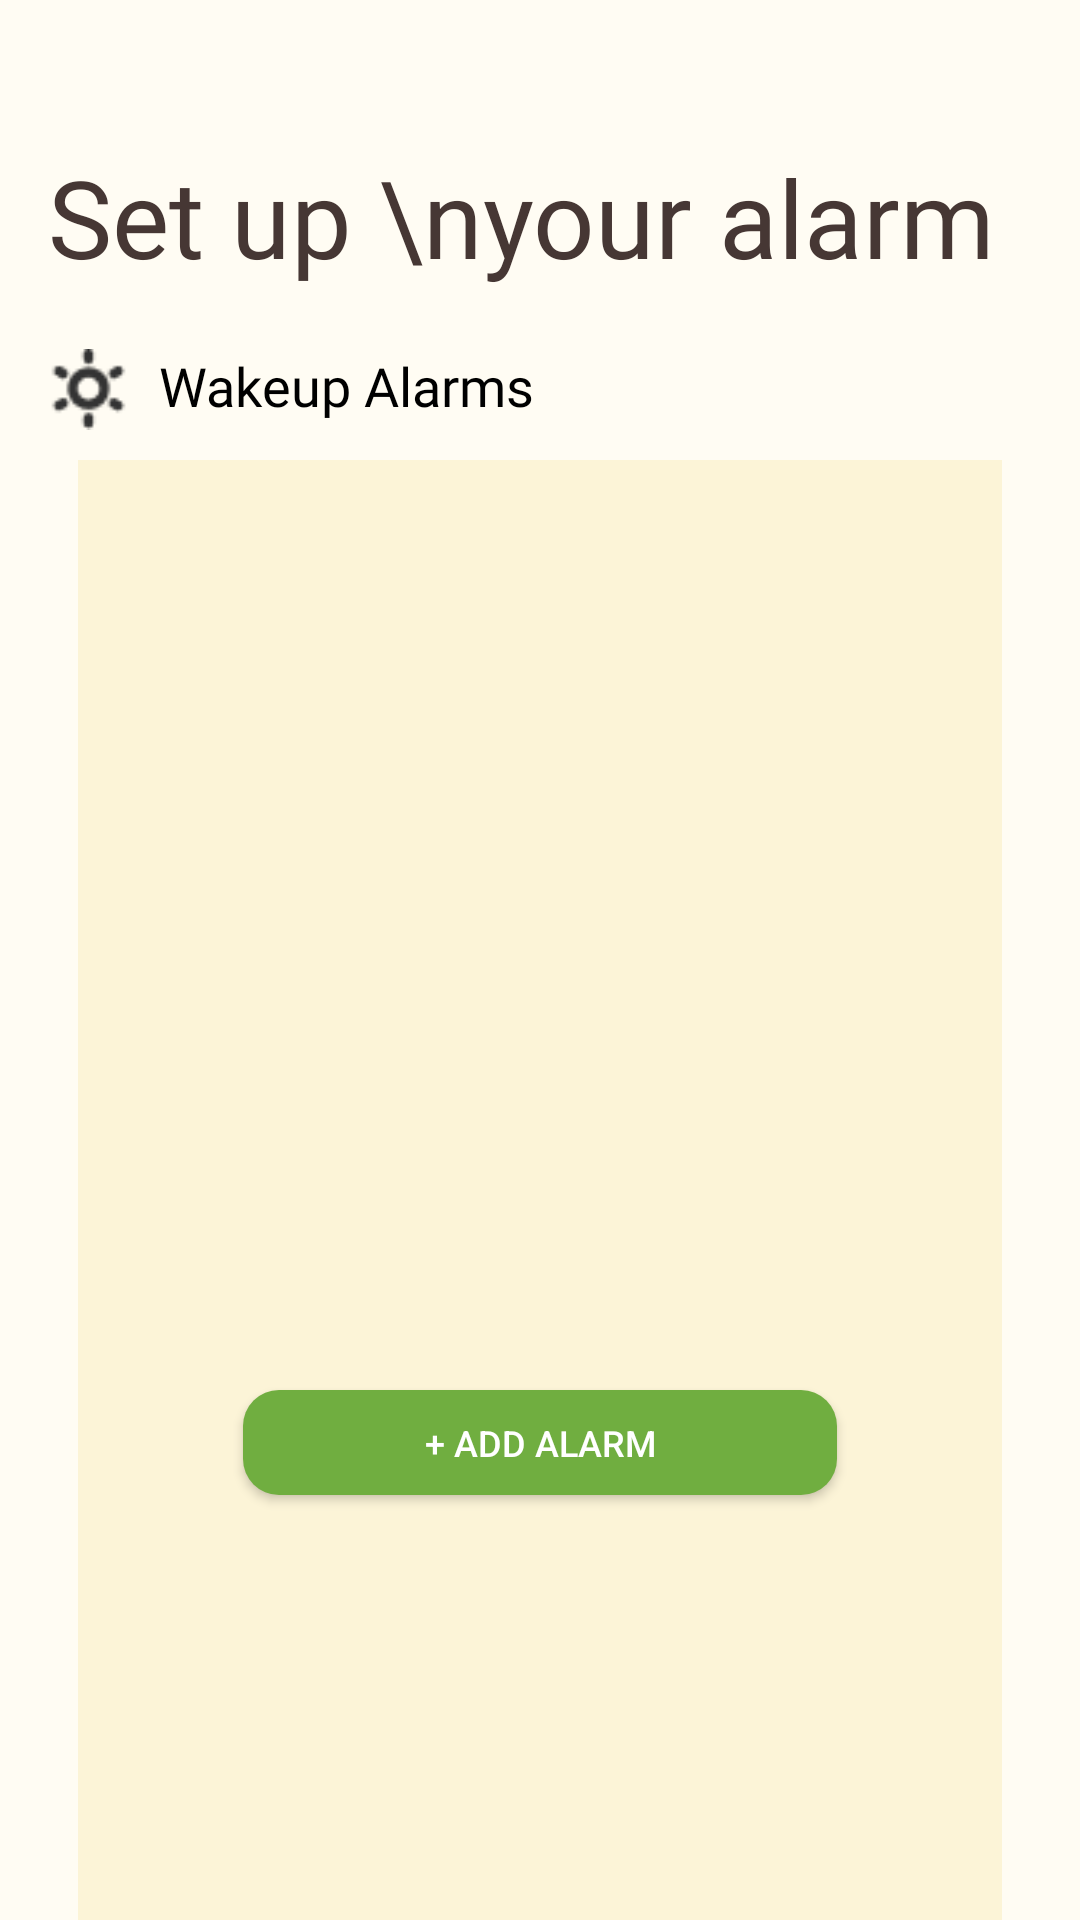

Screen size 1080px x 1920px. Icon name, then its box in pixels as Rect(x1, y1, x2, y2):
sun: Rect(52, 349, 125, 430)
